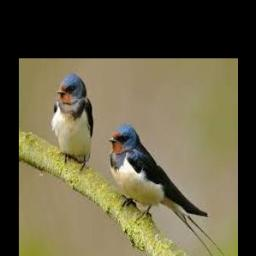Swallow: (108, 125, 226, 256), (51, 74, 94, 165)
